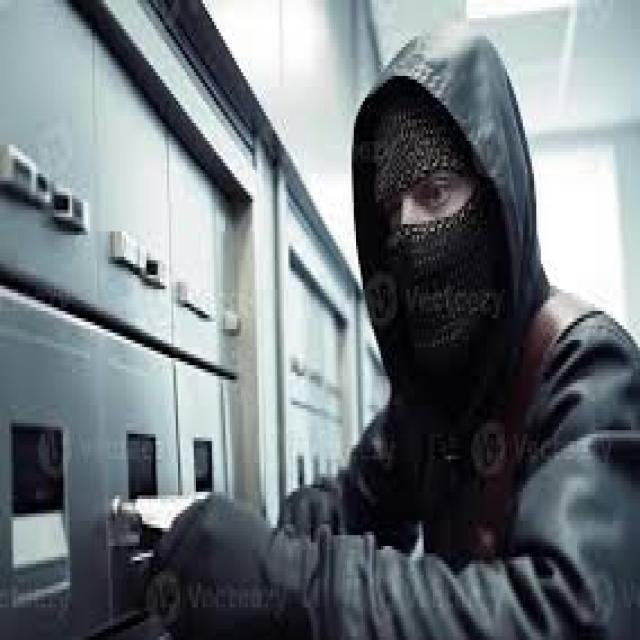39: (351, 57, 520, 574), (507, 302, 640, 637), (467, 420, 511, 560), (426, 431, 473, 557)
60: (138, 505, 625, 640)
62: (11, 422, 65, 515)
handguns: (507, 301, 640, 639), (530, 309, 640, 463)
